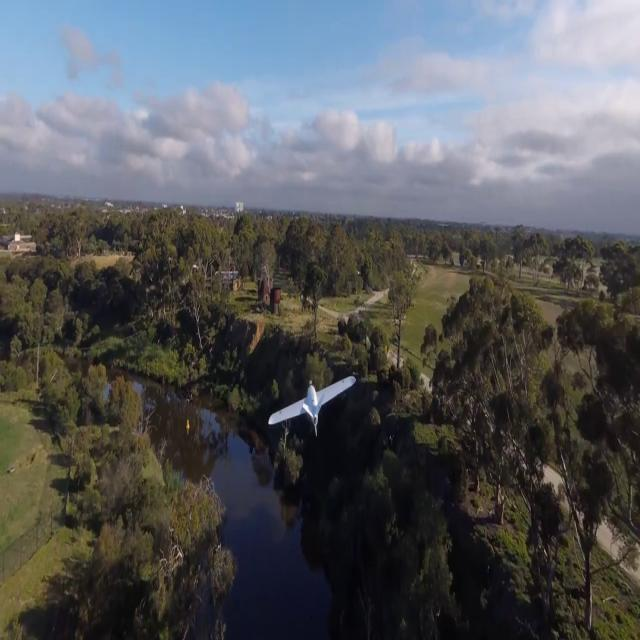iha: (300, 372, 324, 432)
